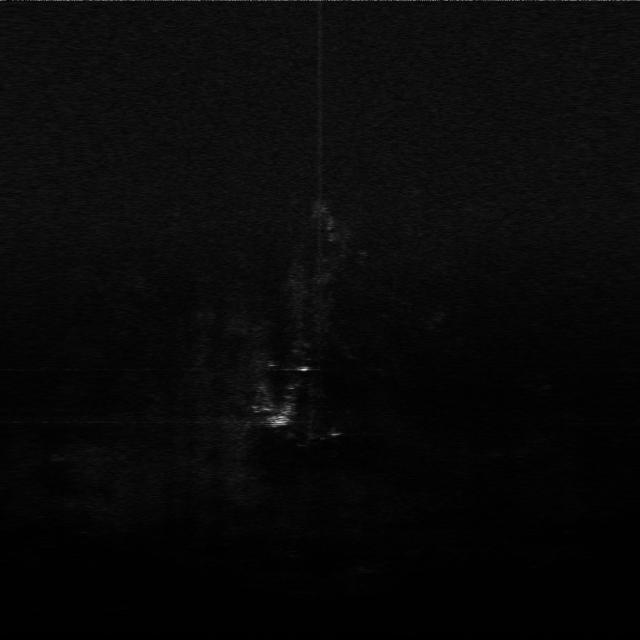rov: (266, 410, 293, 430)
